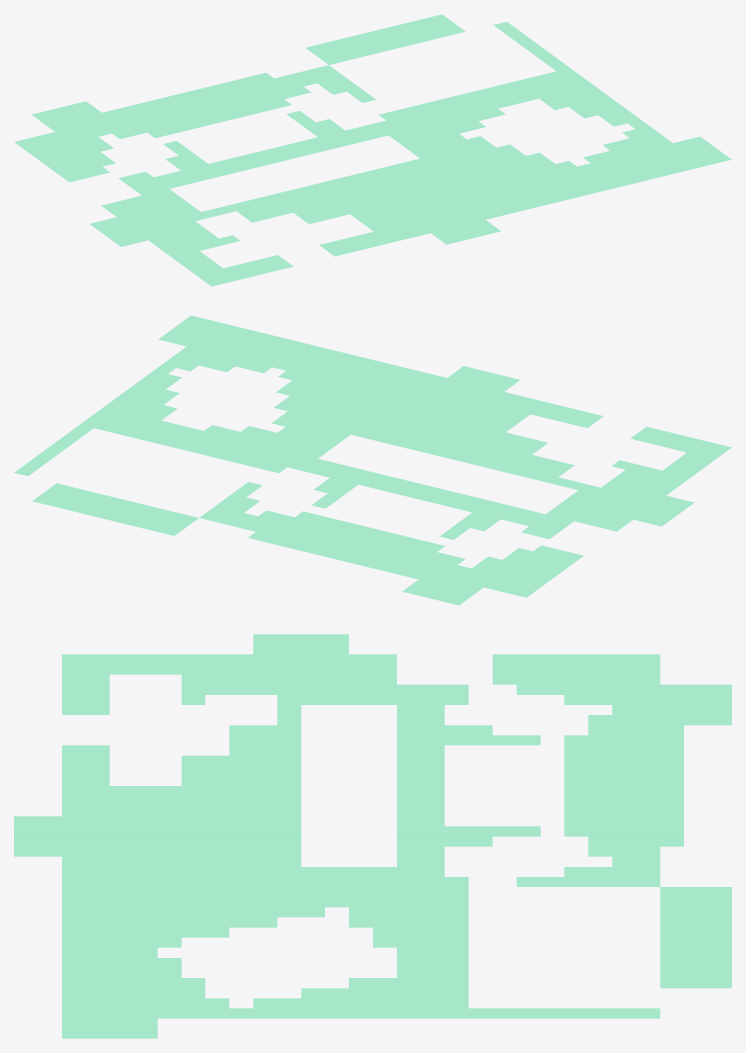
File: navmesh.glb
The picture shows the model from 3 angles, top to bottom: view 1: azimuth 30°, elevation 25°; view 2: azimuth 150°, elevation 25°; view 3: azimuth 270°, elevation 25°; orthographic projection. The views are drawn at different scales.
Visible parts, largest first — view 1: NAVMESH; view 2: NAVMESH; view 3: NAVMESH.
Part boxes in pixels (left/top/right/bottom): NAVMESH: left=14, top=14, right=731, bottom=286; NAVMESH: left=14, top=315, right=731, bottom=605; NAVMESH: left=14, top=634, right=731, bottom=1038.
Size of the model in its own units: 10 by 0 by 7.5.
